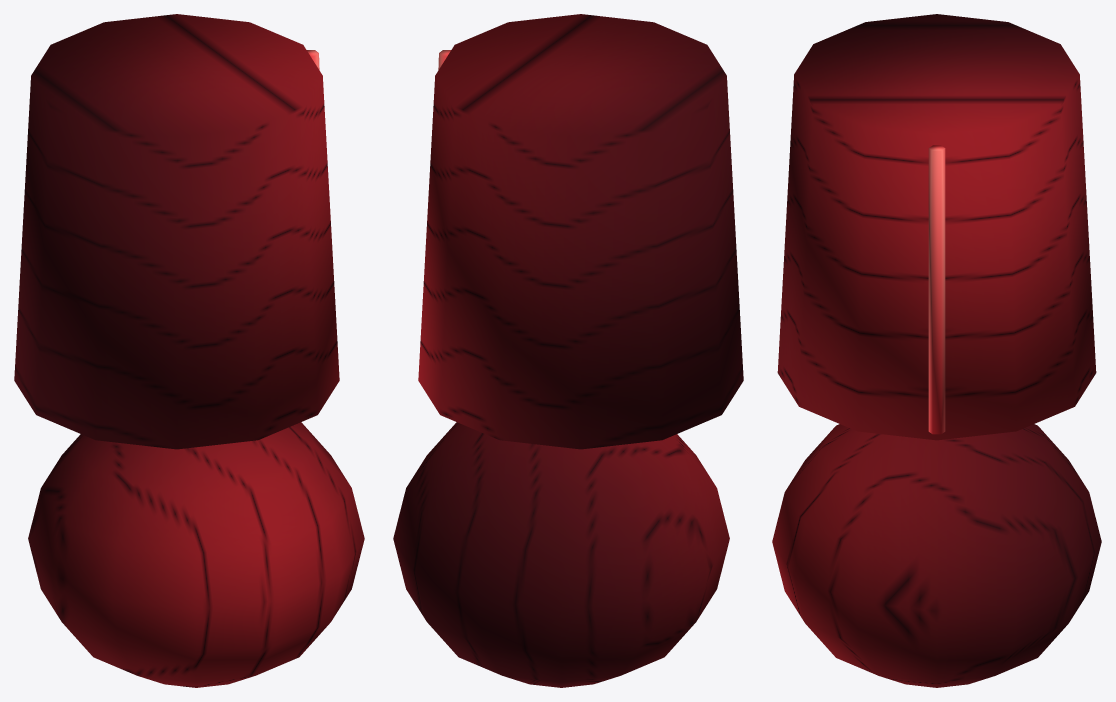
File: parasite_hide_smooth_arm.obj
3 views of the same model, side by side, from view 1: azimuth 30°, elevation 25°; view 2: azimuth 150°, elevation 25°; view 3: azimuth 270°, elevation 25° (orthographic). The views are drawn at different scales.
Parts seen in each view (by area): view 1: hide_smooth_arm; view 2: hide_smooth_arm; view 3: hide_smooth_arm.
Boxes of the visible parts, box(x1,y1,x2,y2) form: hide_smooth_arm: box(14, 14, 364, 687); hide_smooth_arm: box(393, 14, 743, 687); hide_smooth_arm: box(772, 14, 1101, 687).
Bounding box in the file's own units: 0.3937 × 0.7375 × 0.375.
